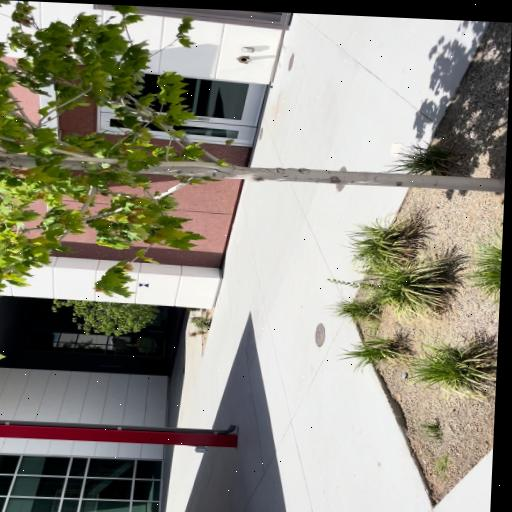target2: (138, 283, 149, 288)
